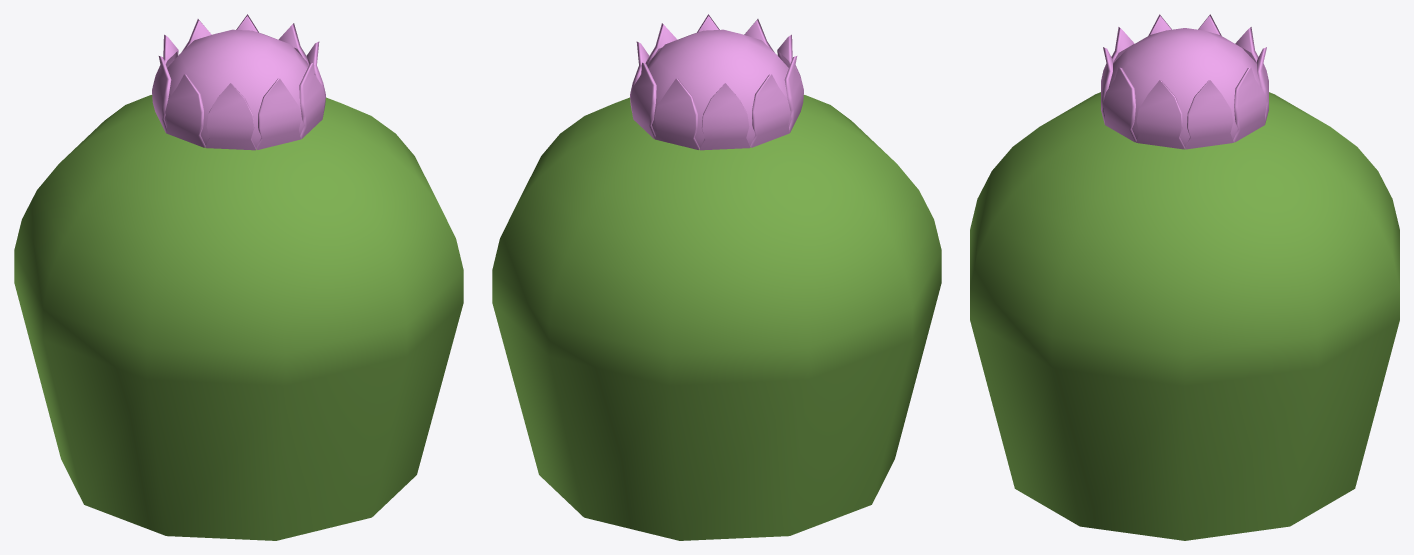
File: Marviiskii_kaktus.fbx
The picture shows the model from 3 angles, left to right: view 1: azimuth 30°, elevation 25°; view 2: azimuth 150°, elevation 25°; view 3: azimuth 270°, elevation 25°; orthographic projection.
Visible parts, largest first — view 1: Marviiskii_kaktus; view 2: Marviiskii_kaktus; view 3: Marviiskii_kaktus.
Boxes of the visible parts, left/top/right/bottom form: Marviiskii_kaktus: left=14, top=14, right=463, bottom=540; Marviiskii_kaktus: left=492, top=14, right=941, bottom=540; Marviiskii_kaktus: left=970, top=14, right=1399, bottom=540.
Size of the model in its own units: 6.93 by 7.26 by 6.59.
